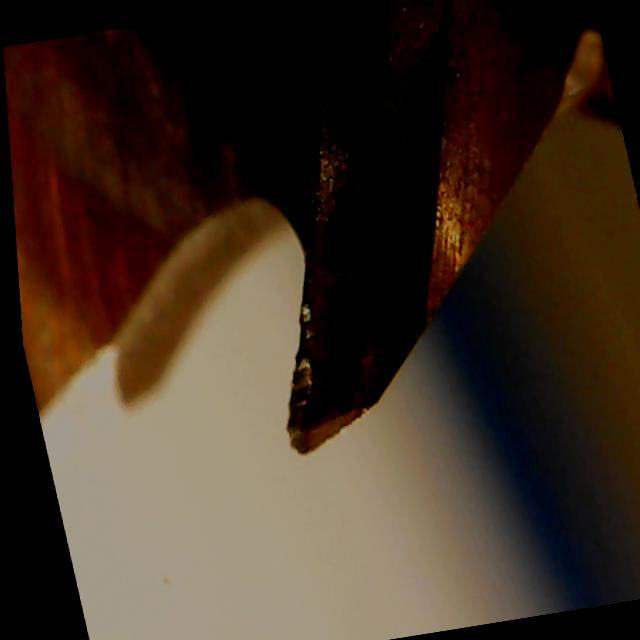Tool-wear-class-1: (202, 181, 432, 475)
